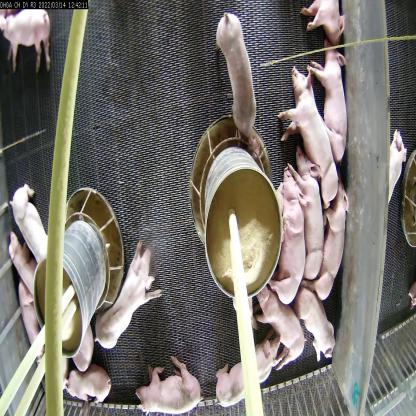Pig: (86, 235, 172, 357), (279, 63, 339, 212), (208, 7, 261, 152), (306, 42, 354, 167), (269, 159, 308, 308), (212, 334, 282, 416), (290, 148, 331, 284), (127, 346, 206, 416), (252, 278, 309, 374), (310, 184, 350, 303), (288, 282, 341, 368), (7, 179, 56, 270), (0, 8, 57, 82), (56, 363, 117, 416), (3, 231, 45, 306), (15, 280, 48, 368), (300, 0, 350, 50), (386, 117, 409, 221), (68, 322, 96, 378)
